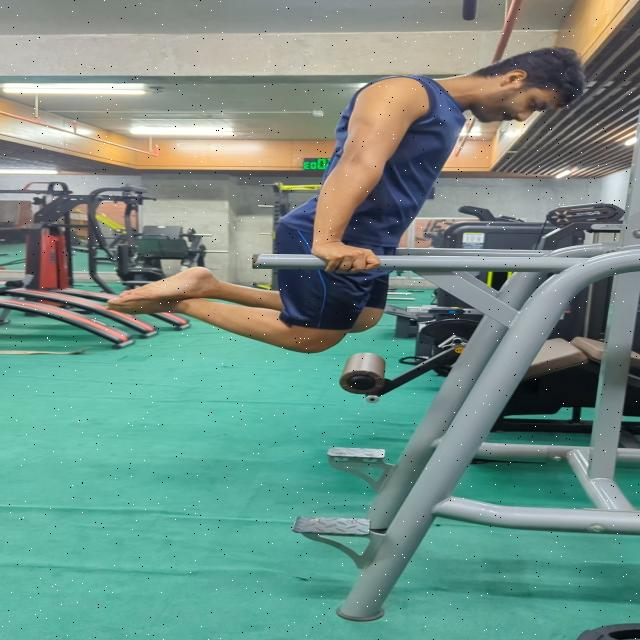Normal_Dips: (98, 35, 598, 360)
